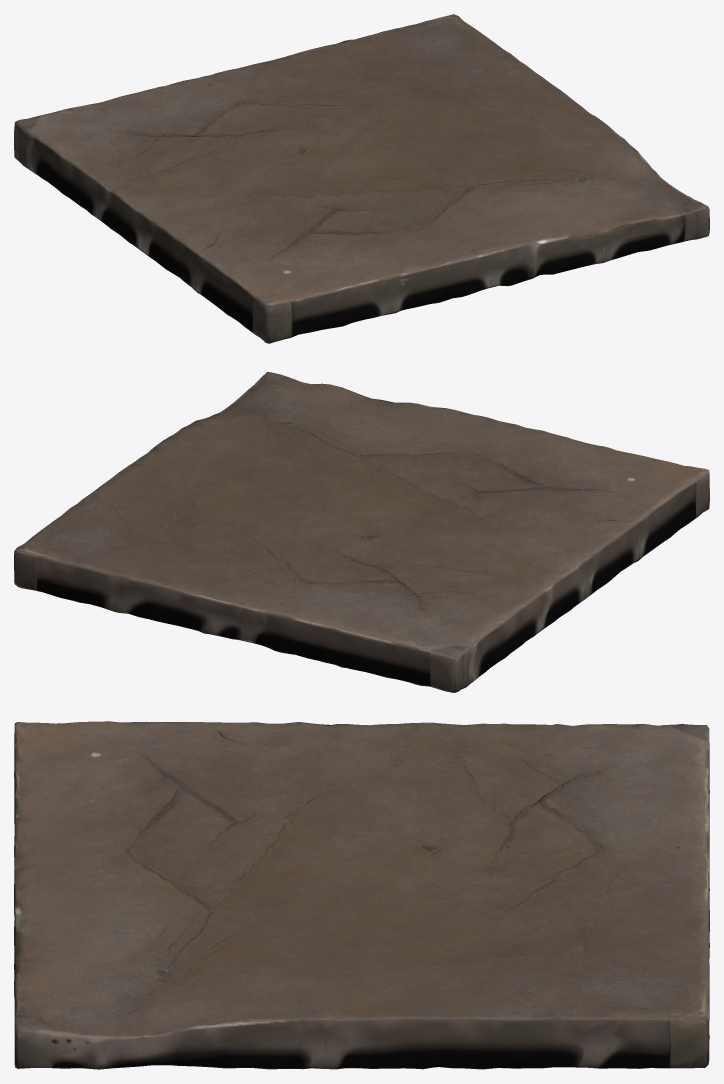
File: soil_terrain.obj
The picture shows the model from 3 angles, top to bottom: view 1: azimuth 30°, elevation 25°; view 2: azimuth 150°, elevation 25°; view 3: azimuth 270°, elevation 25°; orthographic projection. The views are drawn at different scales.
Parts seen in each view (by area): view 1: Meshy_AI_Soil_Terrain_Tile_0220051923_texture; view 2: Meshy_AI_Soil_Terrain_Tile_0220051923_texture; view 3: Meshy_AI_Soil_Terrain_Tile_0220051923_texture.
Part boxes in pixels (left/top/right/bottom): Meshy_AI_Soil_Terrain_Tile_0220051923_texture: left=14, top=14, right=709, bottom=343; Meshy_AI_Soil_Terrain_Tile_0220051923_texture: left=14, top=372, right=709, bottom=692; Meshy_AI_Soil_Terrain_Tile_0220051923_texture: left=14, top=721, right=709, bottom=1069.
Bounding box in the file's own units: 1.99 × 0.1863 × 1.98.
